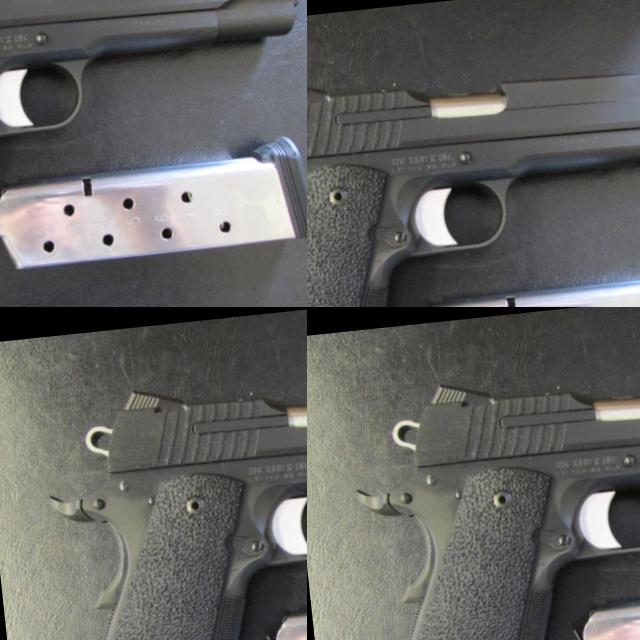handgun: (342, 333, 640, 640), (343, 0, 640, 307), (72, 307, 307, 640), (0, 0, 214, 113)
